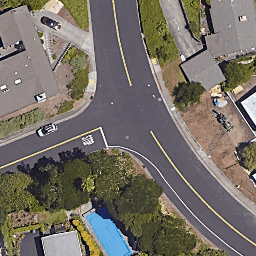car: (37, 120, 57, 137), (40, 15, 62, 30)
